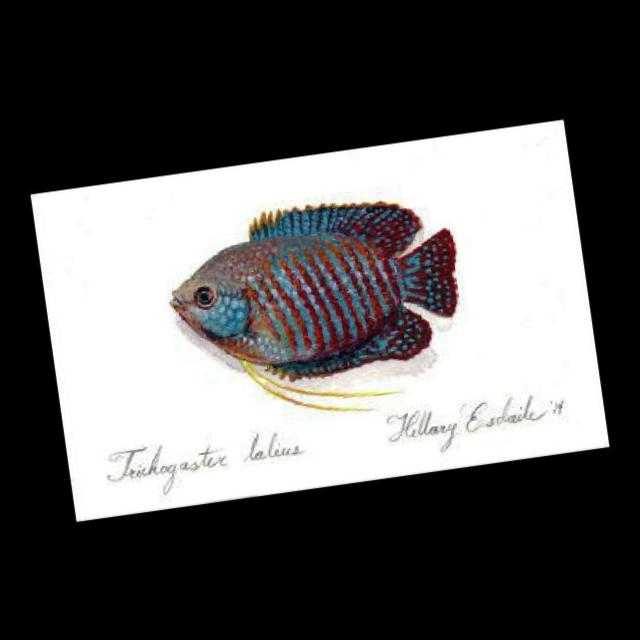Gourami: (158, 175, 473, 398)
